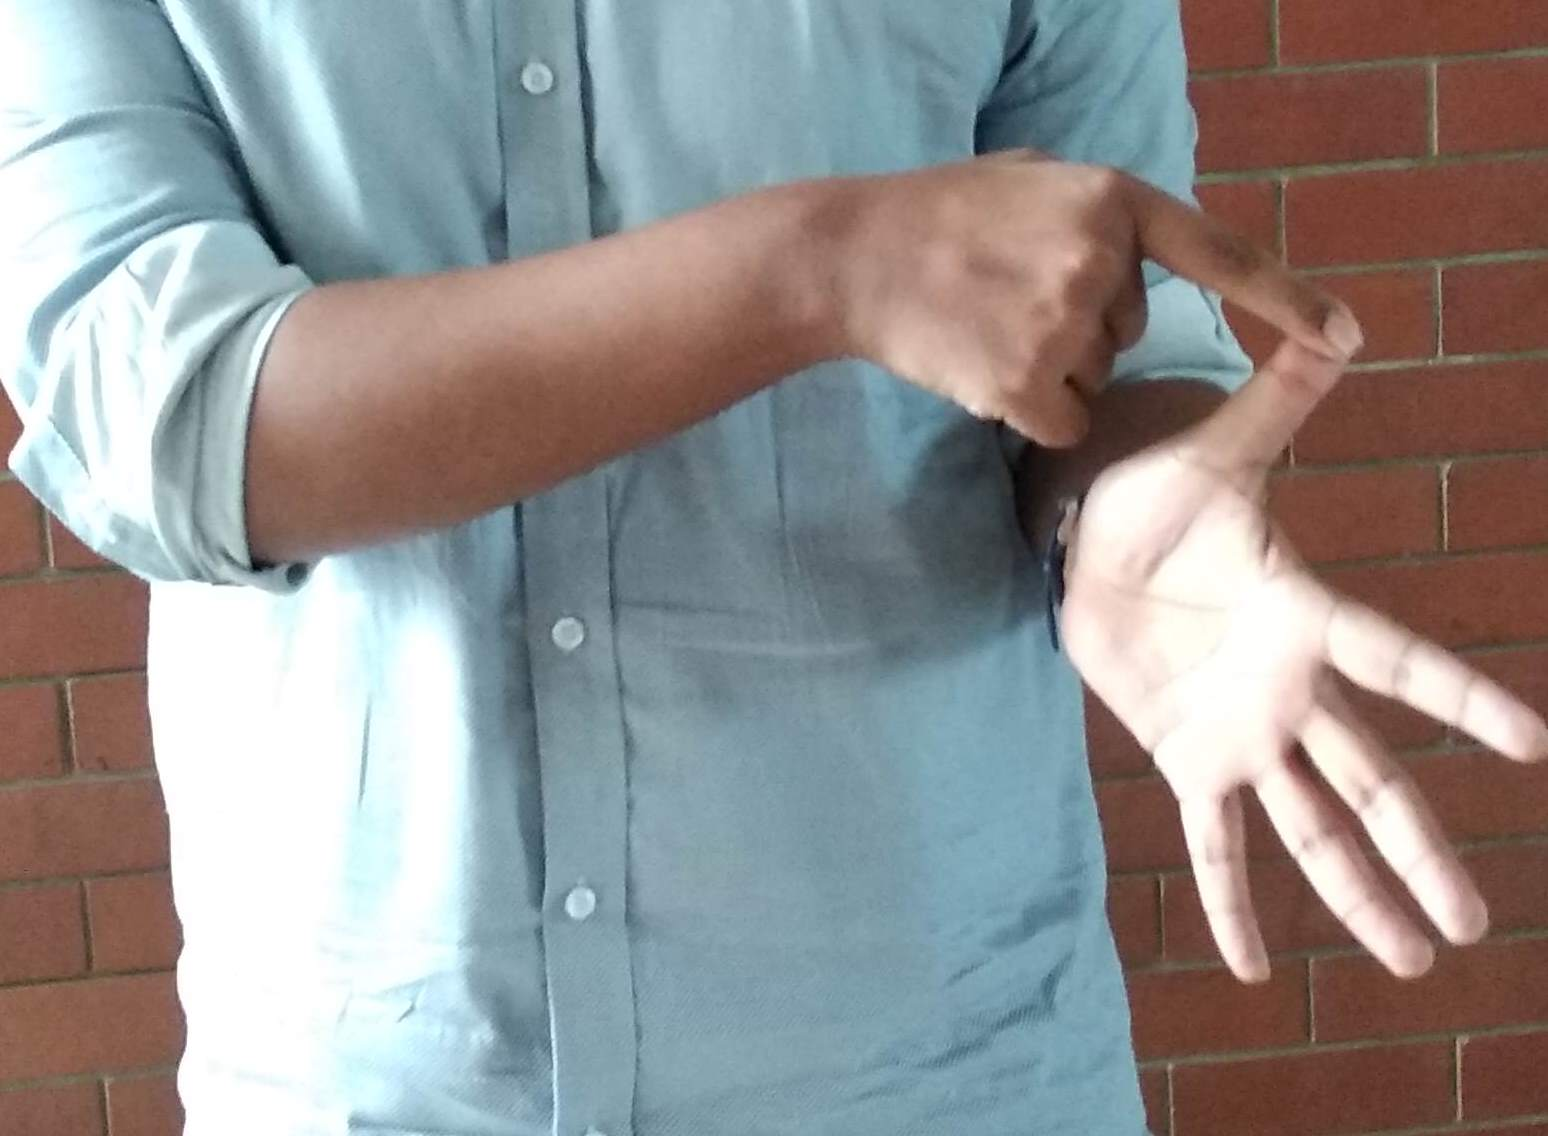a: (955, 176, 1548, 1009)
